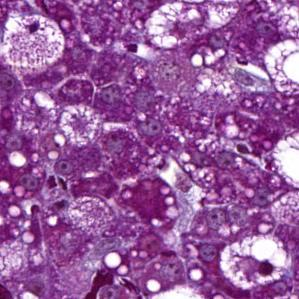ballooning: (217, 228, 291, 292), (145, 3, 239, 51), (4, 8, 67, 76), (260, 37, 296, 99)
